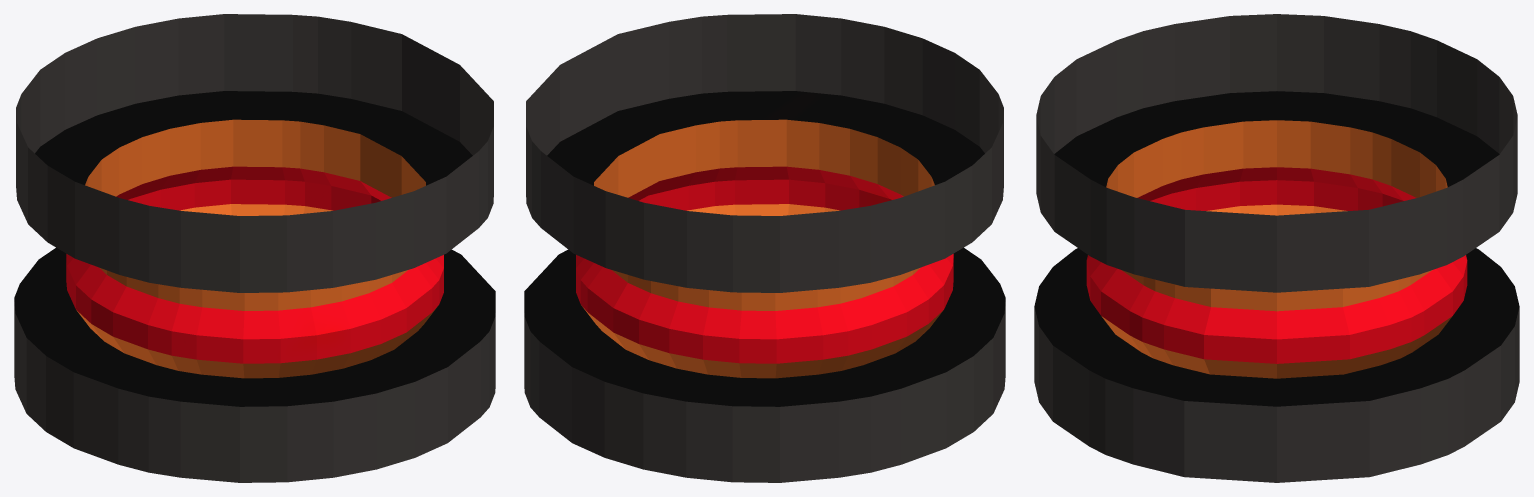
The model's file is TB_Turret_Base.fbx.
The picture shows the model from 3 angles, left to right: view 1: azimuth 30°, elevation 25°; view 2: azimuth 150°, elevation 25°; view 3: azimuth 270°, elevation 25°; orthographic projection.
Parts seen in each view (by area): view 1: Turret.002; view 2: Turret.002; view 3: Turret.002.
Part boxes in pixels (x1=…): Turret.002: x1=14, y1=14, x2=495, y2=482; Turret.002: x1=524, y1=14, x2=1005, y2=482; Turret.002: x1=1034, y1=14, x2=1519, y2=482.
Bounding box in the file's own units: 39.62 × 24.26 × 40.
